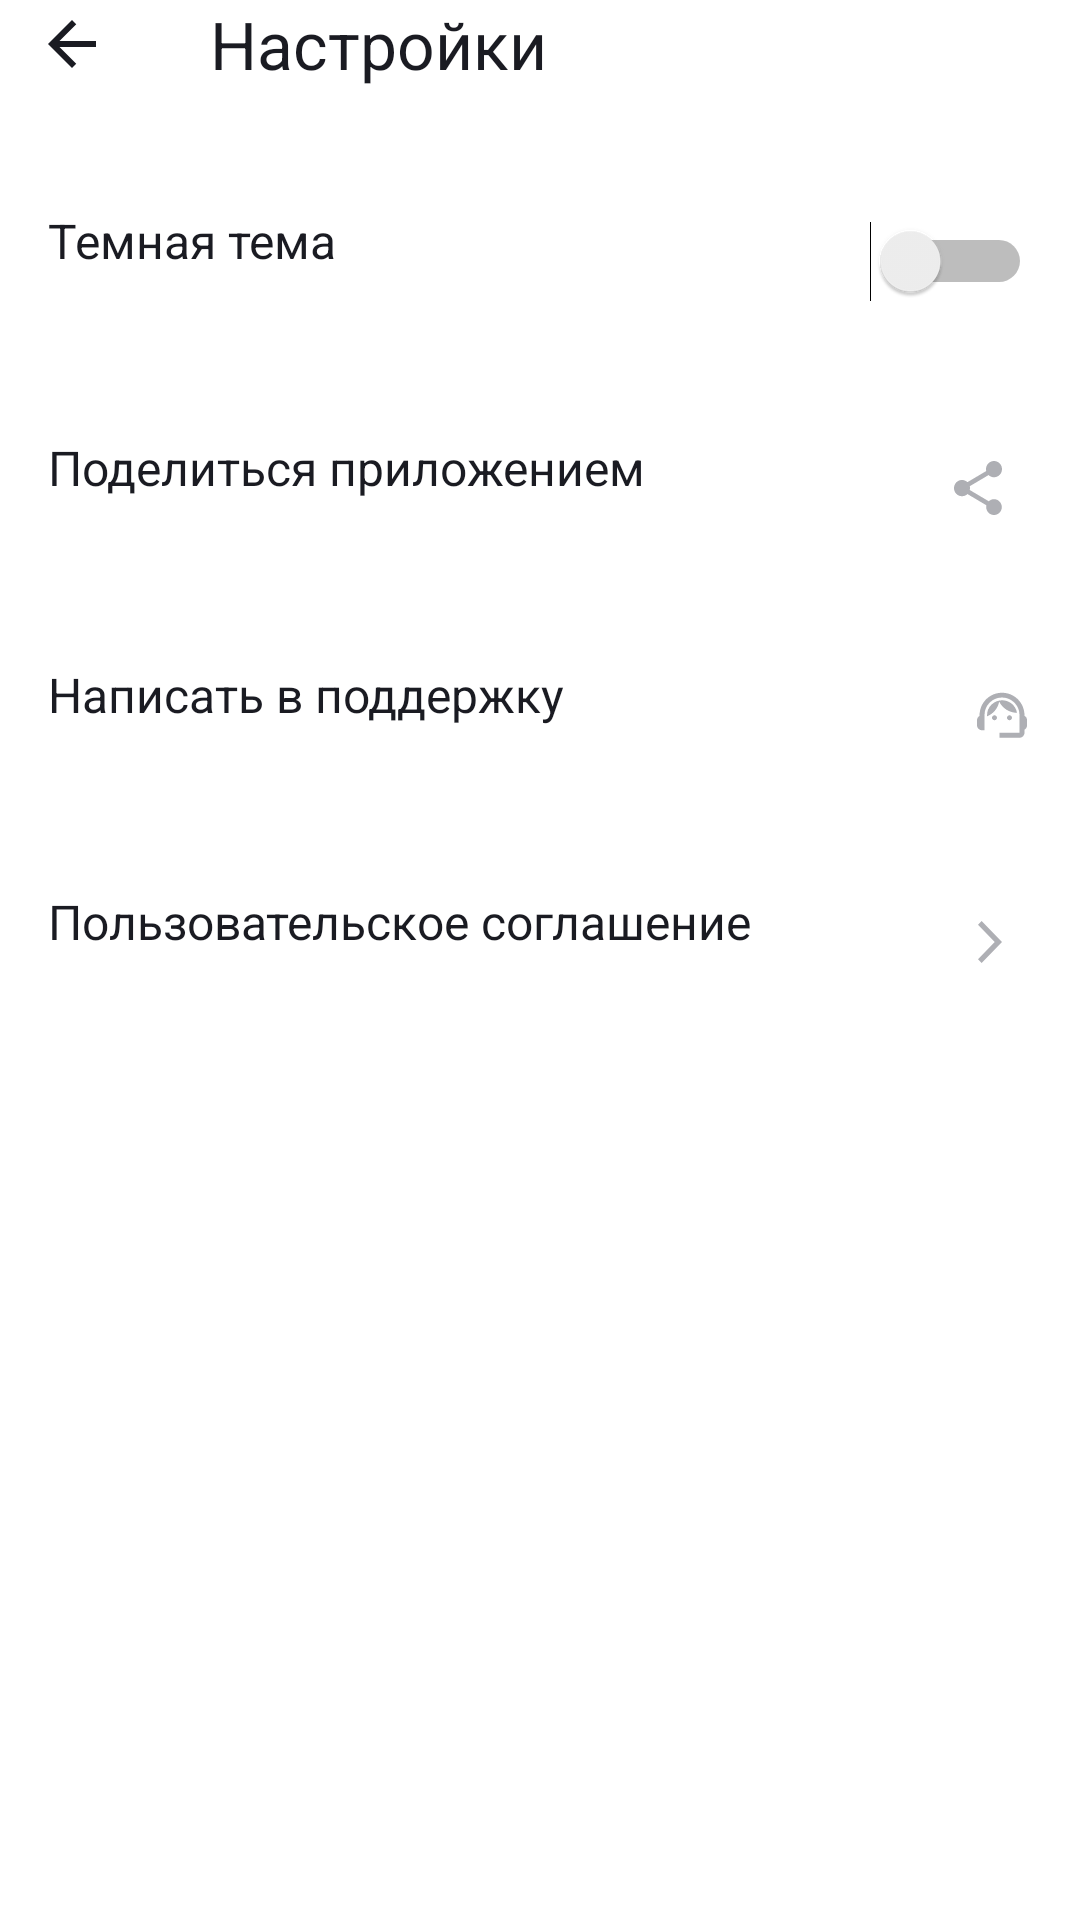

Icon click points for this 1080x1920 phone screenshot, format (x=x, y=y):
arrow back: (x=72, y=44)
